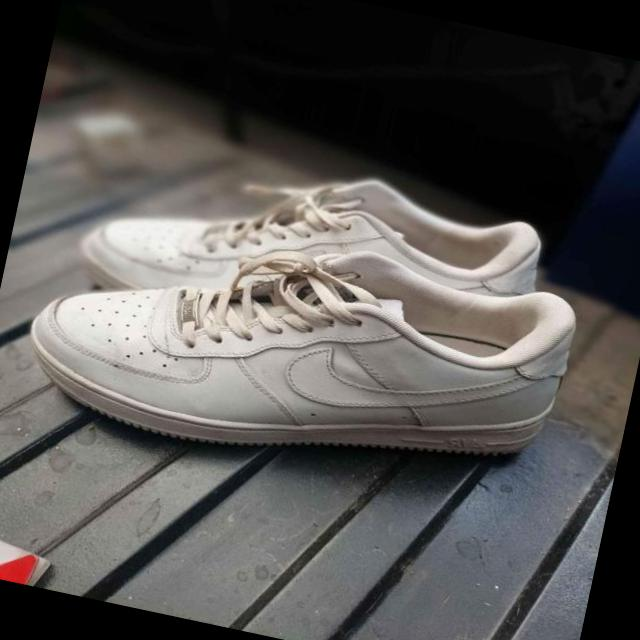nike_fake_airforce: (10, 171, 593, 514), (46, 112, 551, 386)
